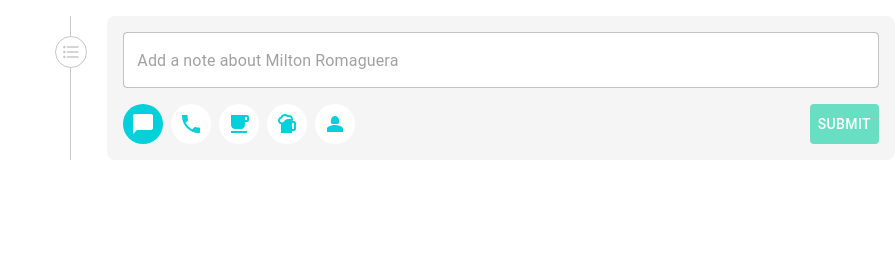
Scenario: added message to context
The image size is (896, 265).
Type "Hello Man" into the text box with placeholder "Add a note about Milton Romaguera" at (501, 60), box [137, 48, 865, 72]
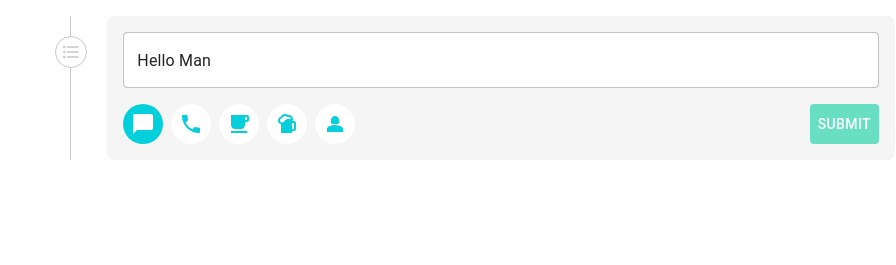
Click the button "Submit" at (844, 124), box [810, 104, 879, 144]
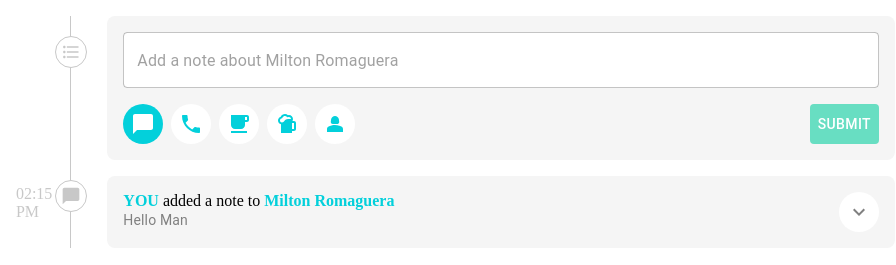
Result: the text "added a note to" is shown at [163, 192, 260, 209]
Result: the text "Hello Man" is shown at [123, 212, 188, 228]
